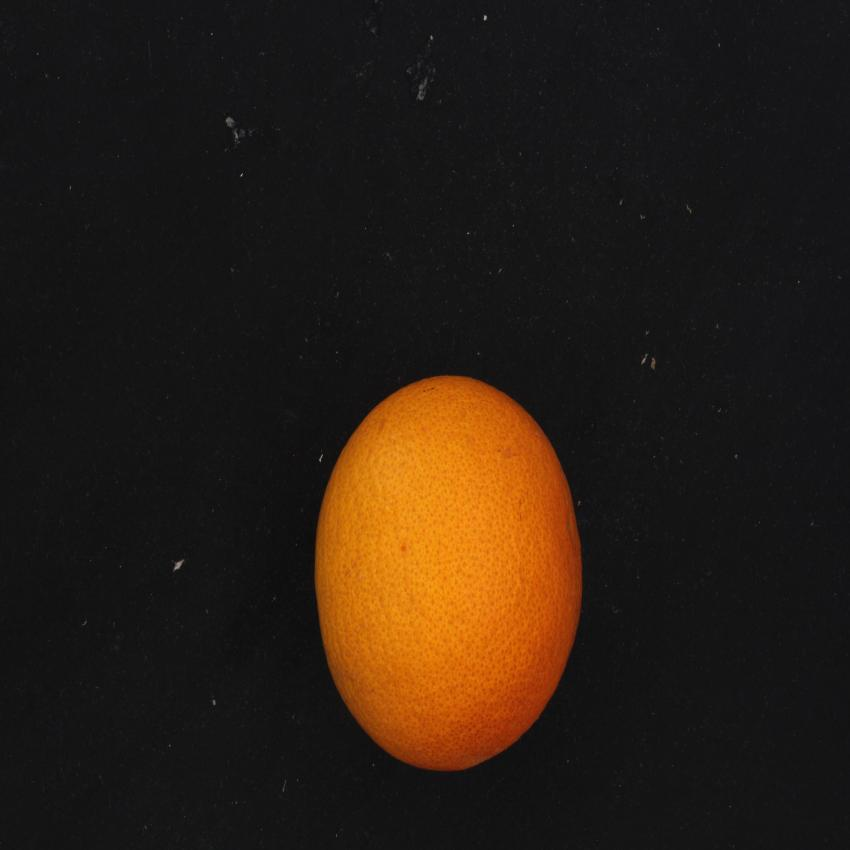Buen estado: (302, 364, 606, 783)
